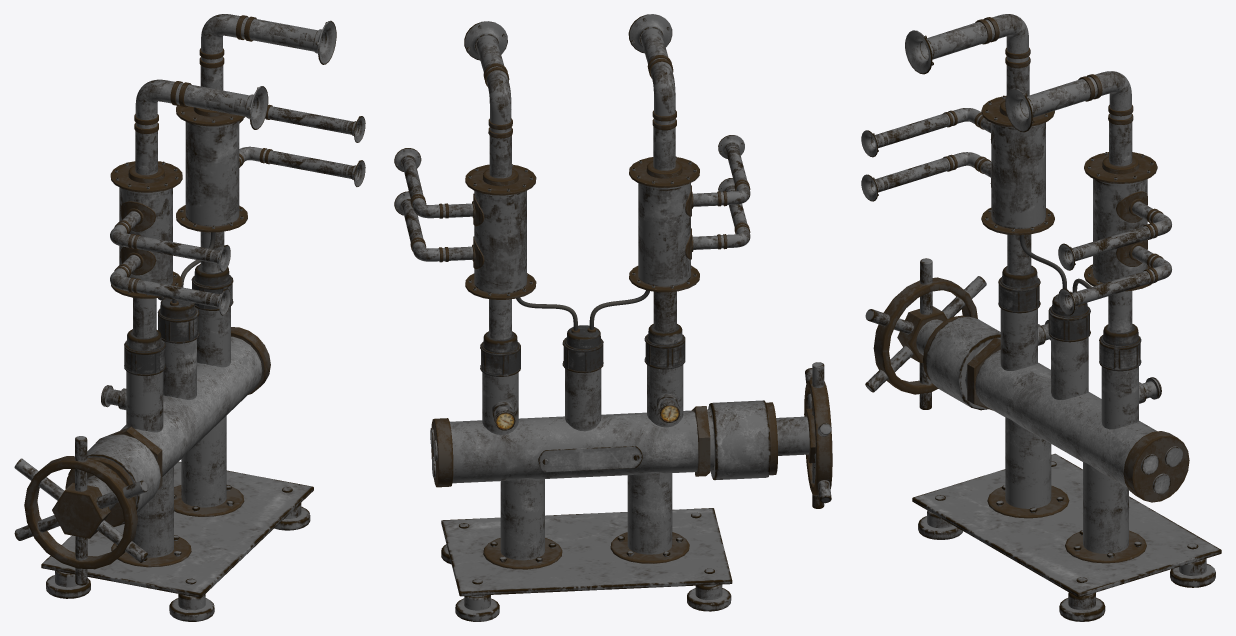
The model's file is machine.glb.
The picture shows the model from 3 angles, left to right: view 1: azimuth 30°, elevation 25°; view 2: azimuth 150°, elevation 25°; view 3: azimuth 270°, elevation 25°; orthographic projection. The views are drawn at different scales.
Parts seen in each view (by area): view 1: Machine_Under, Machine_Up; view 2: Machine_Under, Machine_Up; view 3: Machine_Under, Machine_Up.
Boxes of the visible parts, left/top/right/bottom form: Machine_Under: left=14, top=231, right=313, bottom=621; Machine_Up: left=110, top=14, right=365, bottom=315; Machine_Under: left=430, top=290, right=832, bottom=621; Machine_Up: left=394, top=14, right=750, bottom=299; Machine_Under: left=865, top=234, right=1221, bottom=621; Machine_Up: left=861, top=14, right=1171, bottom=315.
Bounding box in the file's own units: 3.33 × 4.17 × 2.58.
2 materials, 2 textured.
